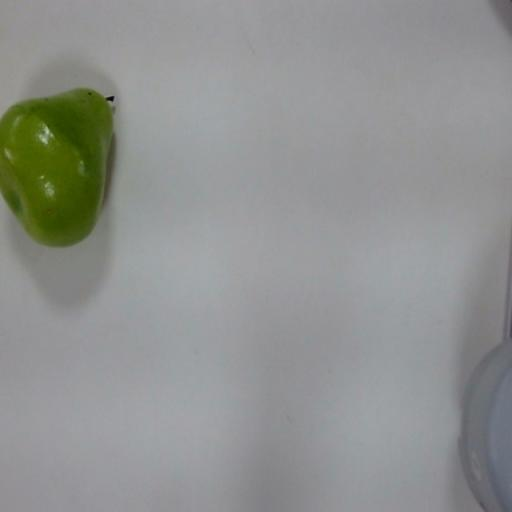Unripe: (3, 64, 119, 251)
